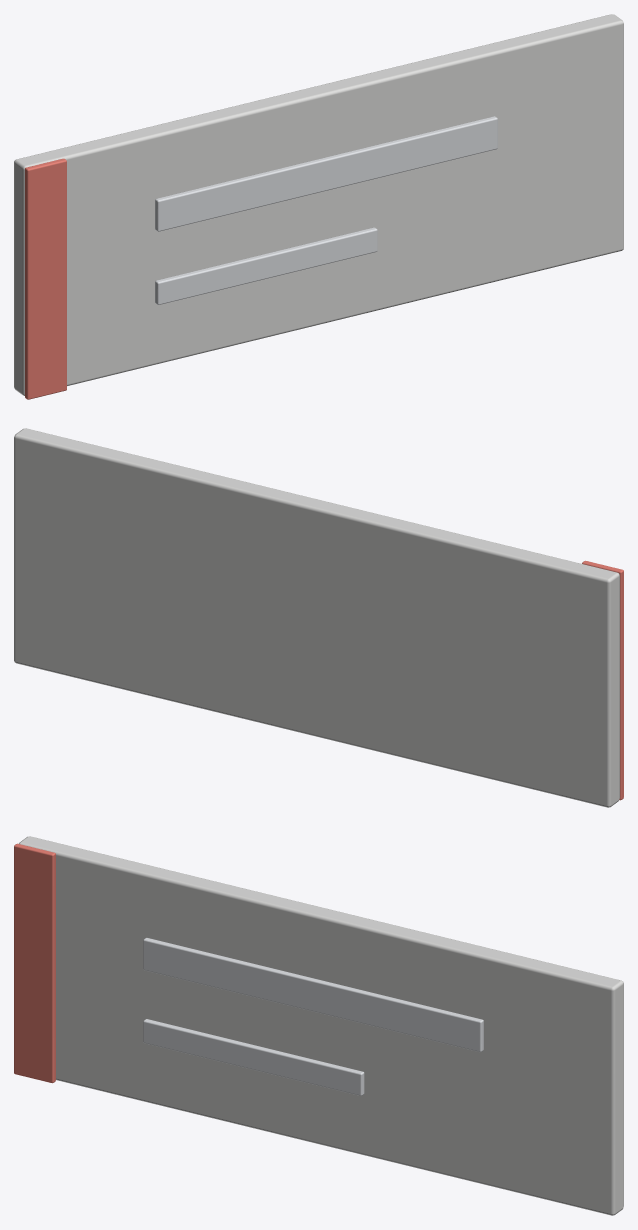
The picture shows the model from 3 angles, top to bottom: view 1: azimuth 30°, elevation 25°; view 2: azimuth 150°, elevation 25°; view 3: azimuth 330°, elevation 25°; orthographic projection.
Parts seen in each view (by area): view 1: room-name-vinyl-plate; view 2: room-name-vinyl-plate; view 3: room-name-vinyl-plate.
Boxes of the visible parts, box(x1,y1,x2,y2) form: room-name-vinyl-plate: box(14, 14, 623, 399); room-name-vinyl-plate: box(14, 428, 623, 807); room-name-vinyl-plate: box(14, 836, 623, 1215).
Size of the model in its own units: 0.6 by 0.22 by 0.026.
